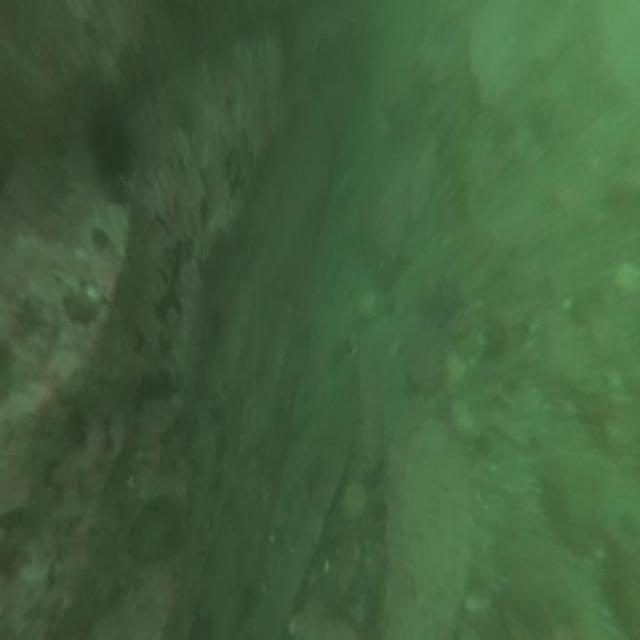echinus: (89, 110, 131, 182)
holothurian: (354, 348, 389, 487)
